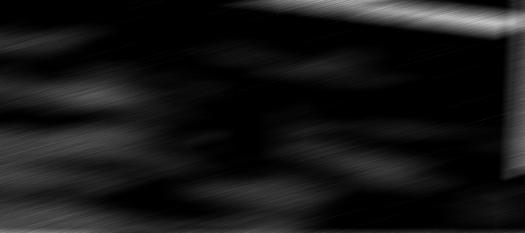Airbag: (0, 1, 525, 232), (513, 1, 525, 233)
